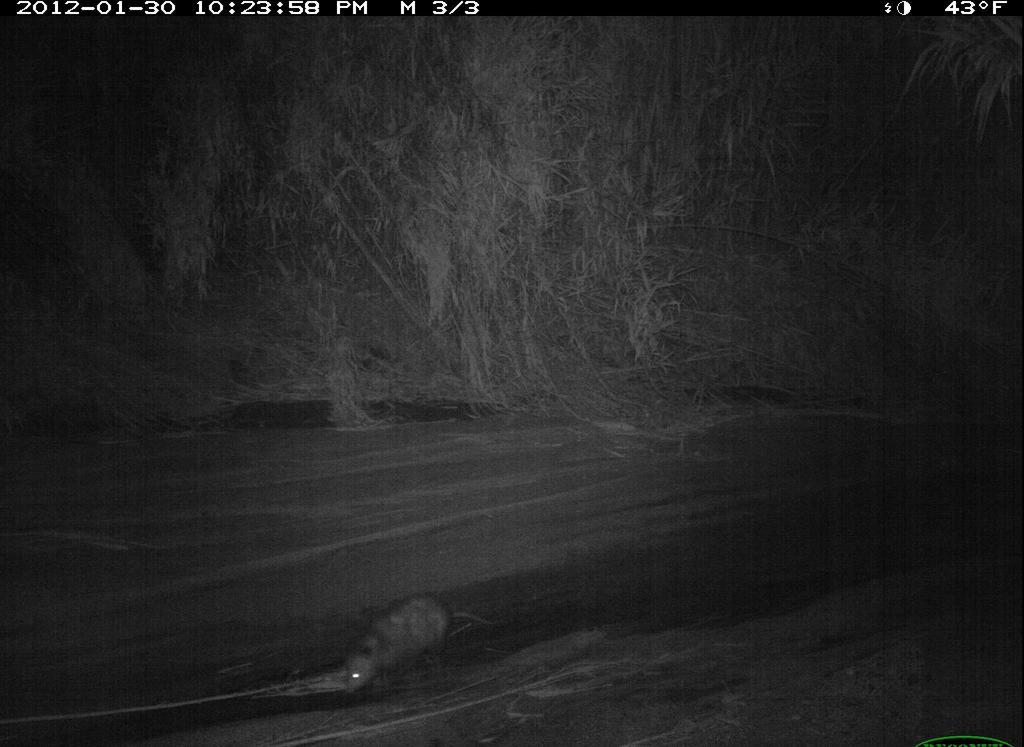opossum: (301, 555, 502, 721)
